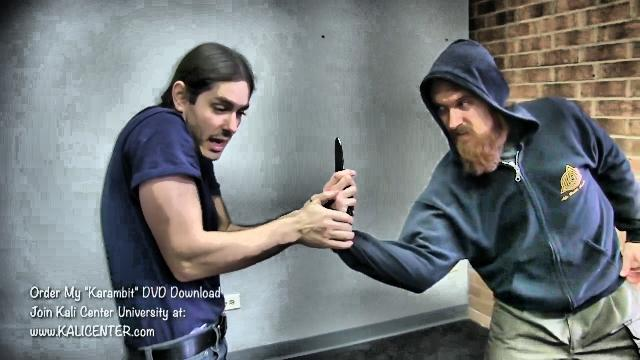knife: (322, 135, 361, 203)
